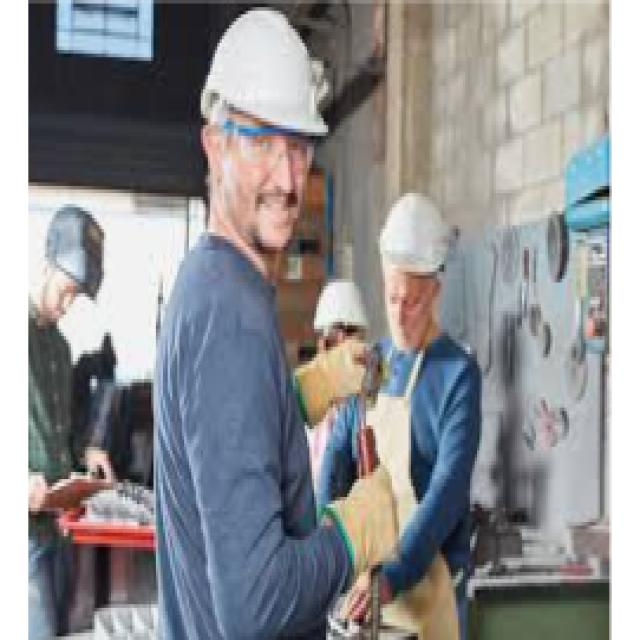glasses: (217, 123, 330, 180)
